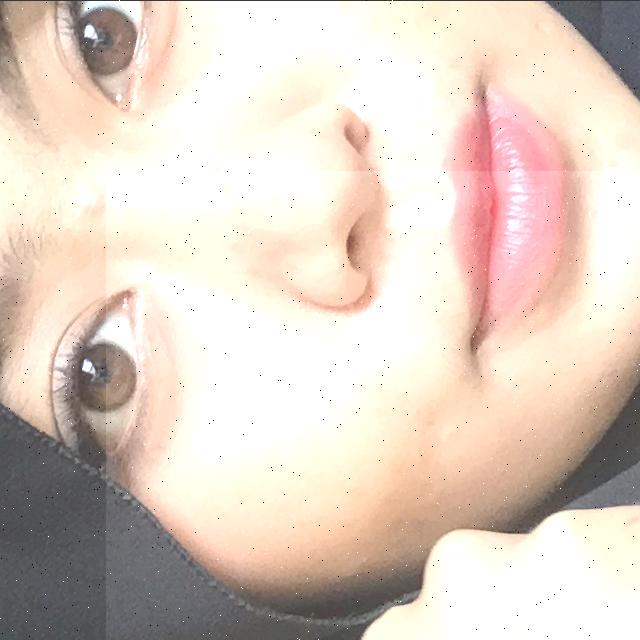telpon: (106, 170, 640, 640)
